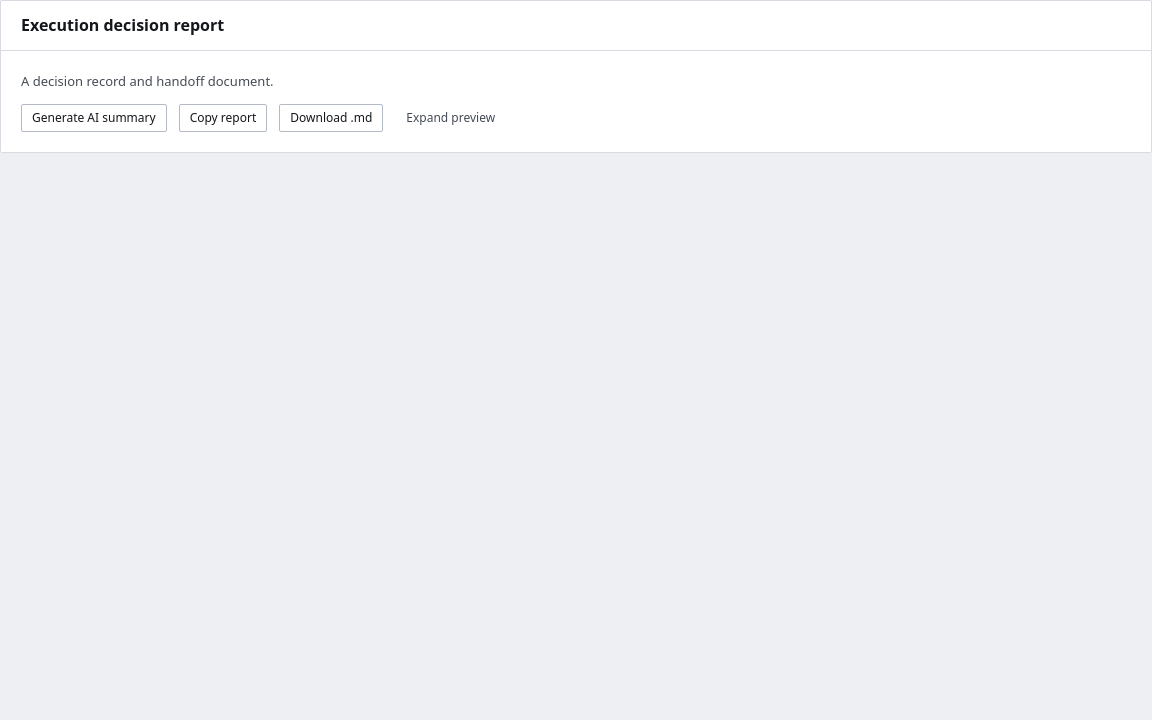
it: ActionReportWorkspace › overwrites after the user confirms
The width and height of the screenshot is (1152, 720).
Click the button "Expand preview" at (451, 118), box [395,104,506,132]
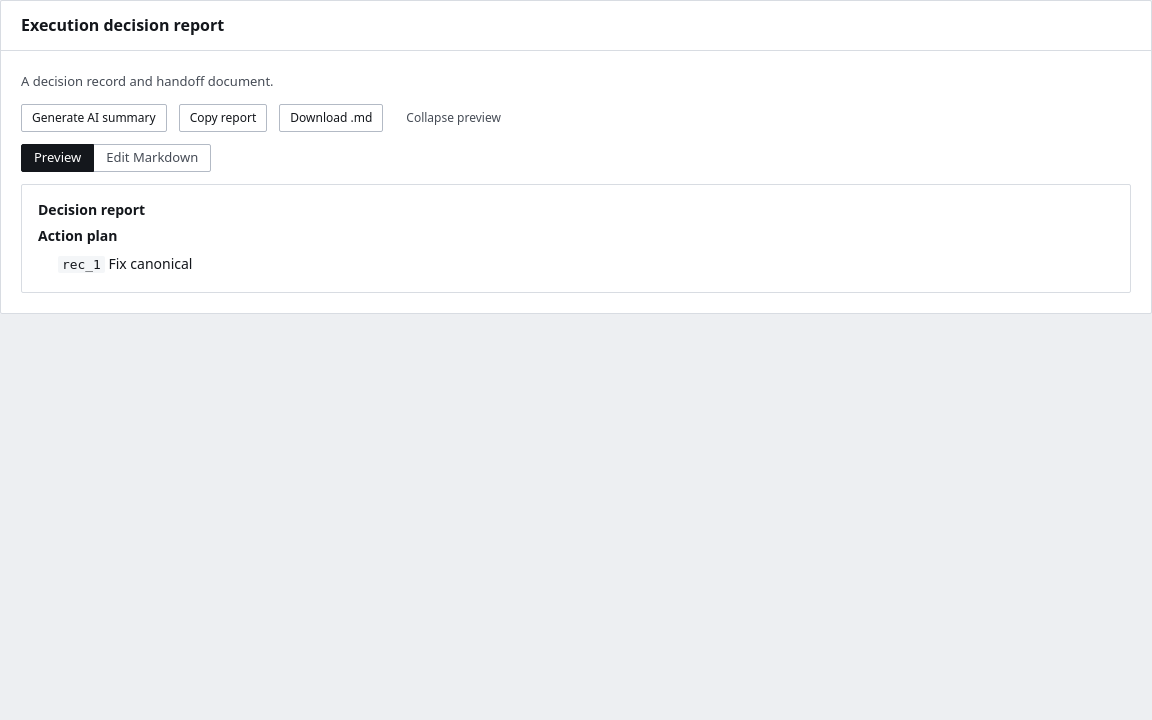
Click the tab "Edit Markdown" at (152, 158), box [93,144,211,172]
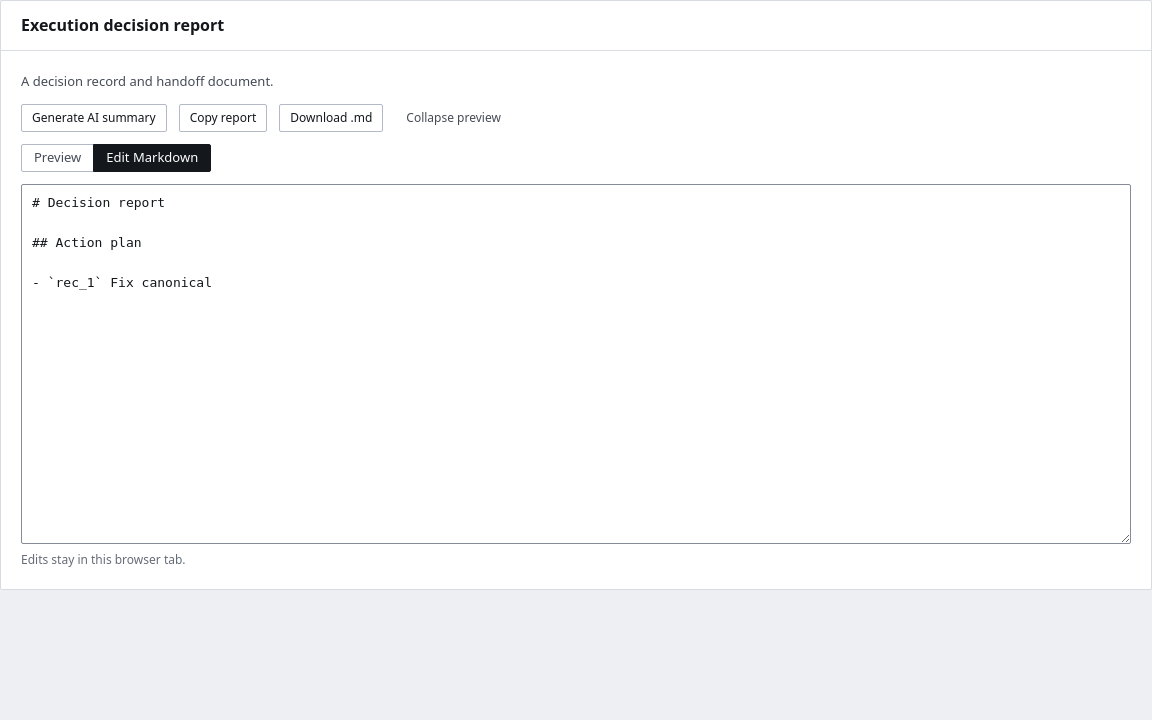
Replace the text in the text box named "Report Markdown editor" with "# hand edited" at (576, 364), box [21,184,1131,544]
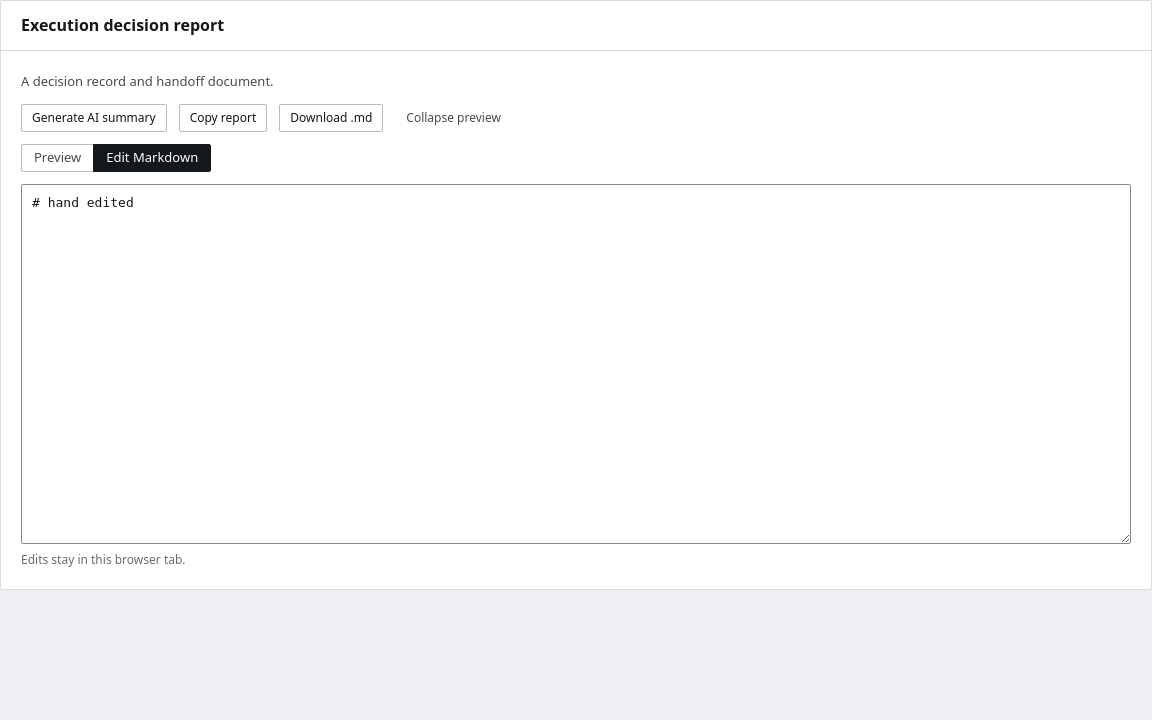
Click the button "Generate AI summary" at (94, 118), box [21,104,167,132]
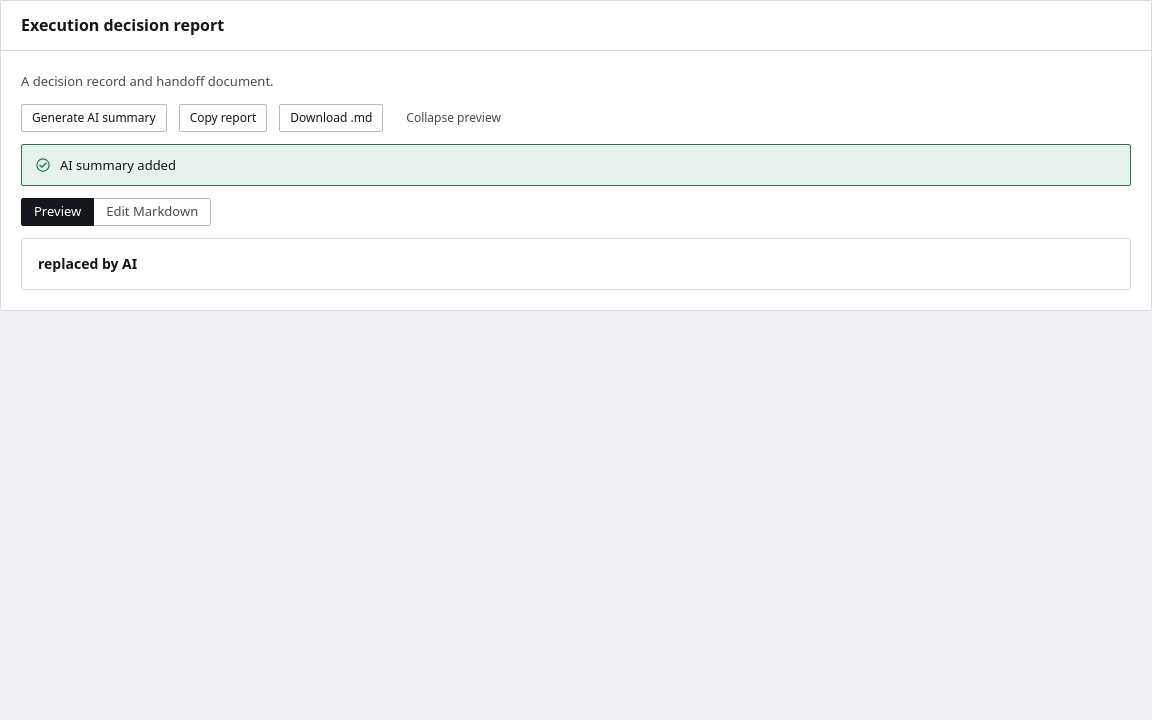
expect the text "AI summary added" is shown: met, box [60,155,176,175]
